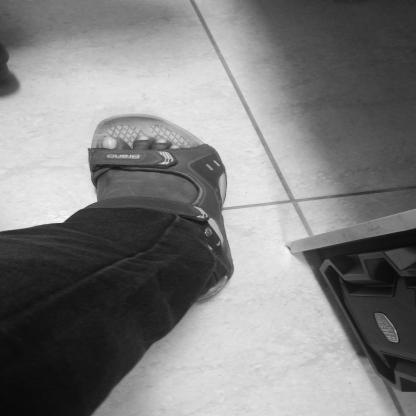ankle: (184, 215, 191, 218)
heel: (203, 295, 208, 298)
pinky: (208, 163, 213, 165)
right_foot: (86, 114, 235, 303)
toe: (103, 143, 111, 147)
